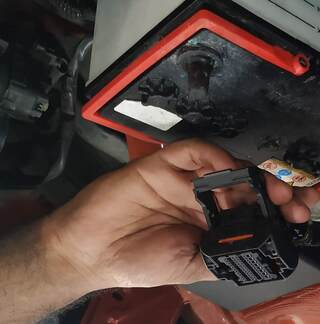connector: (194, 180, 293, 288)
